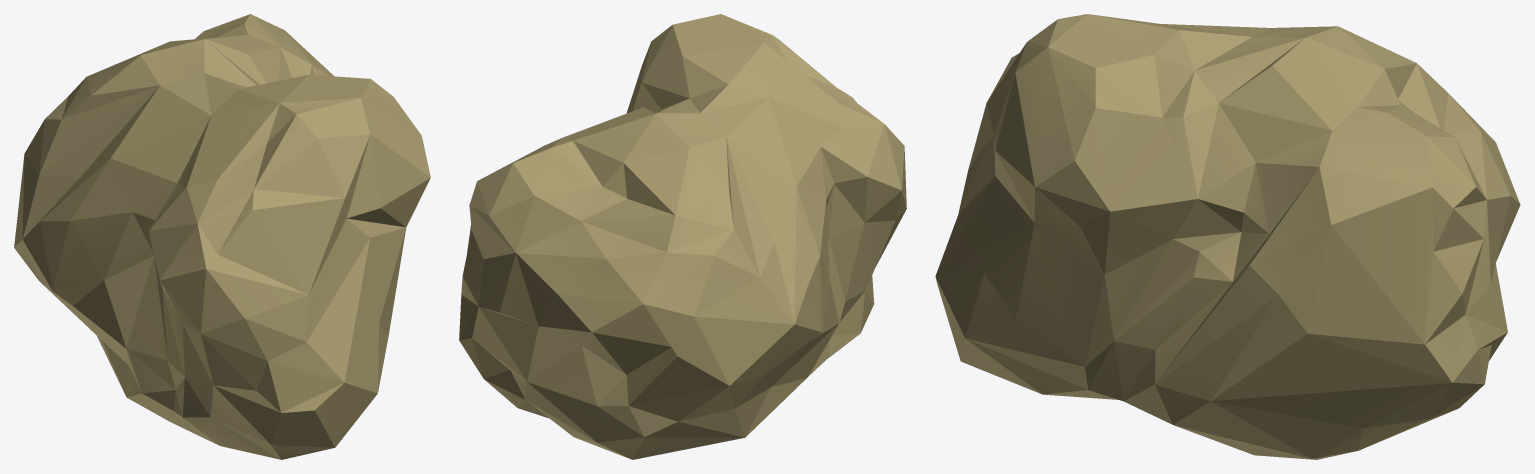
File: SM_rock_15.fbx
3 renders of one model, left to right at view 1: azimuth 30°, elevation 25°; view 2: azimuth 150°, elevation 25°; view 3: azimuth 270°, elevation 25°, orthographic. The views are drawn at different scales.
Parts seen in each view (by area): view 1: rock_15; view 2: rock_15; view 3: rock_15.
Boxes of the visible parts, x1=… form: rock_15: x1=14, y1=14, x2=430, y2=459; rock_15: x1=459, y1=14, x2=906, y2=459; rock_15: x1=935, y1=14, x2=1520, y2=459.
Size of the model in its own units: 181 by 190 by 247.
